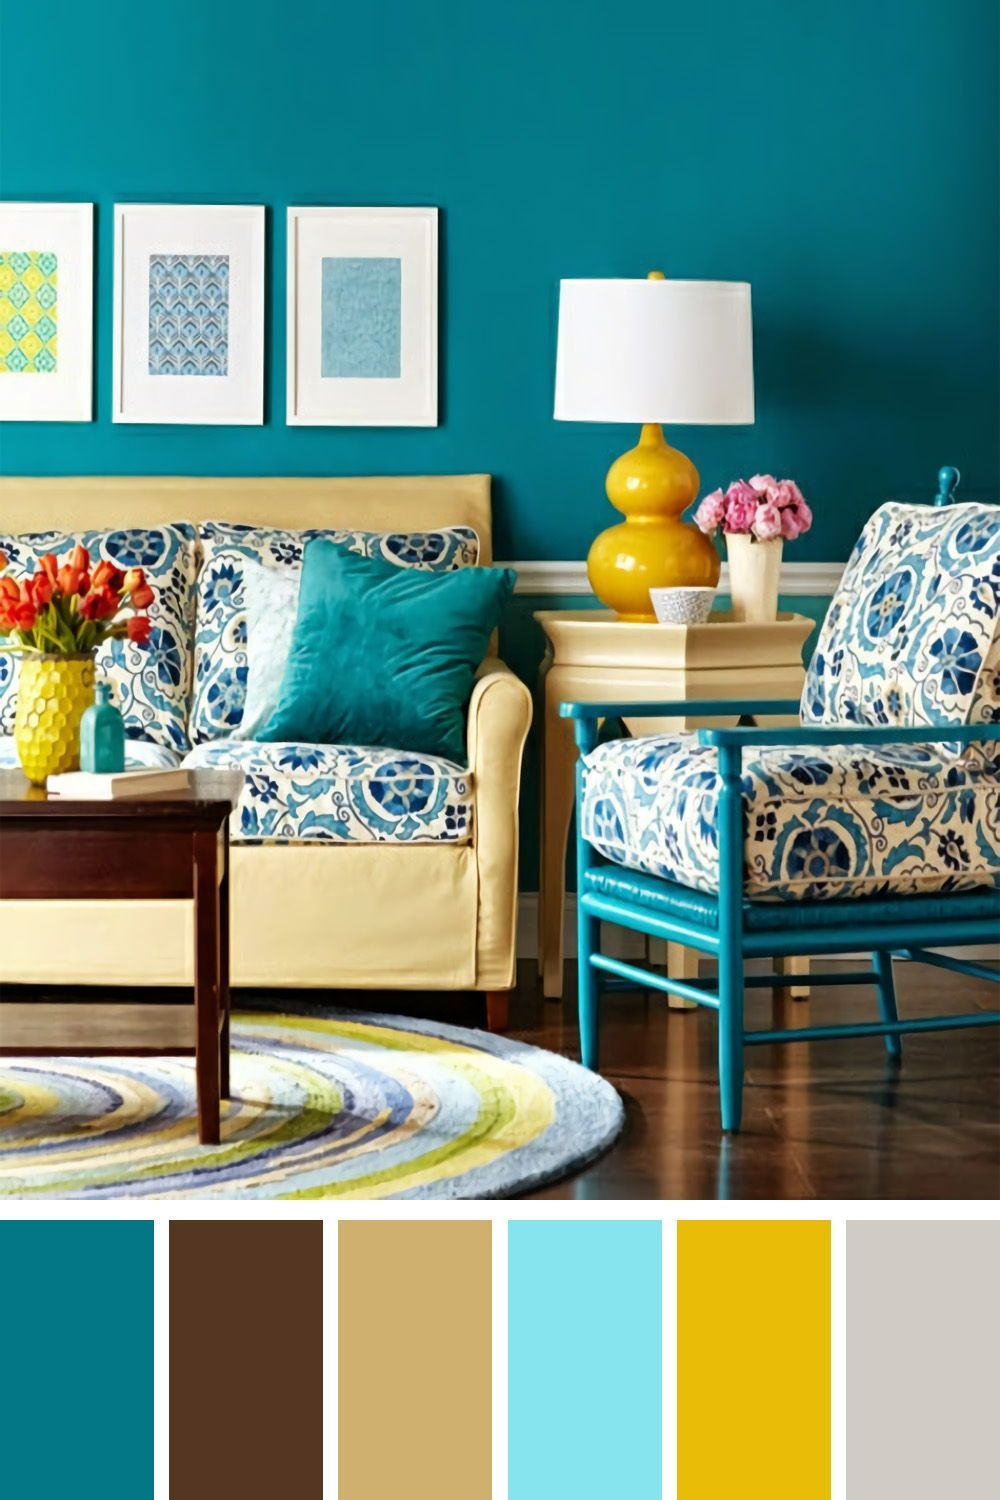biru: (80, 691, 129, 770)
coklat: (1, 785, 227, 1126)
hijau: (300, 542, 475, 754)
kuning: (592, 425, 715, 616), (12, 652, 83, 779)
pink: (702, 483, 821, 536)
putih: (552, 268, 766, 427)
